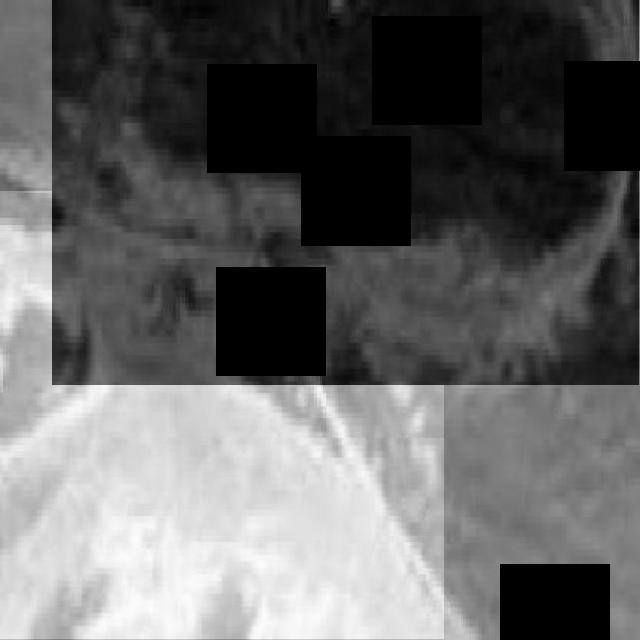oil spill: (53, 0, 639, 385), (0, 191, 444, 639)
